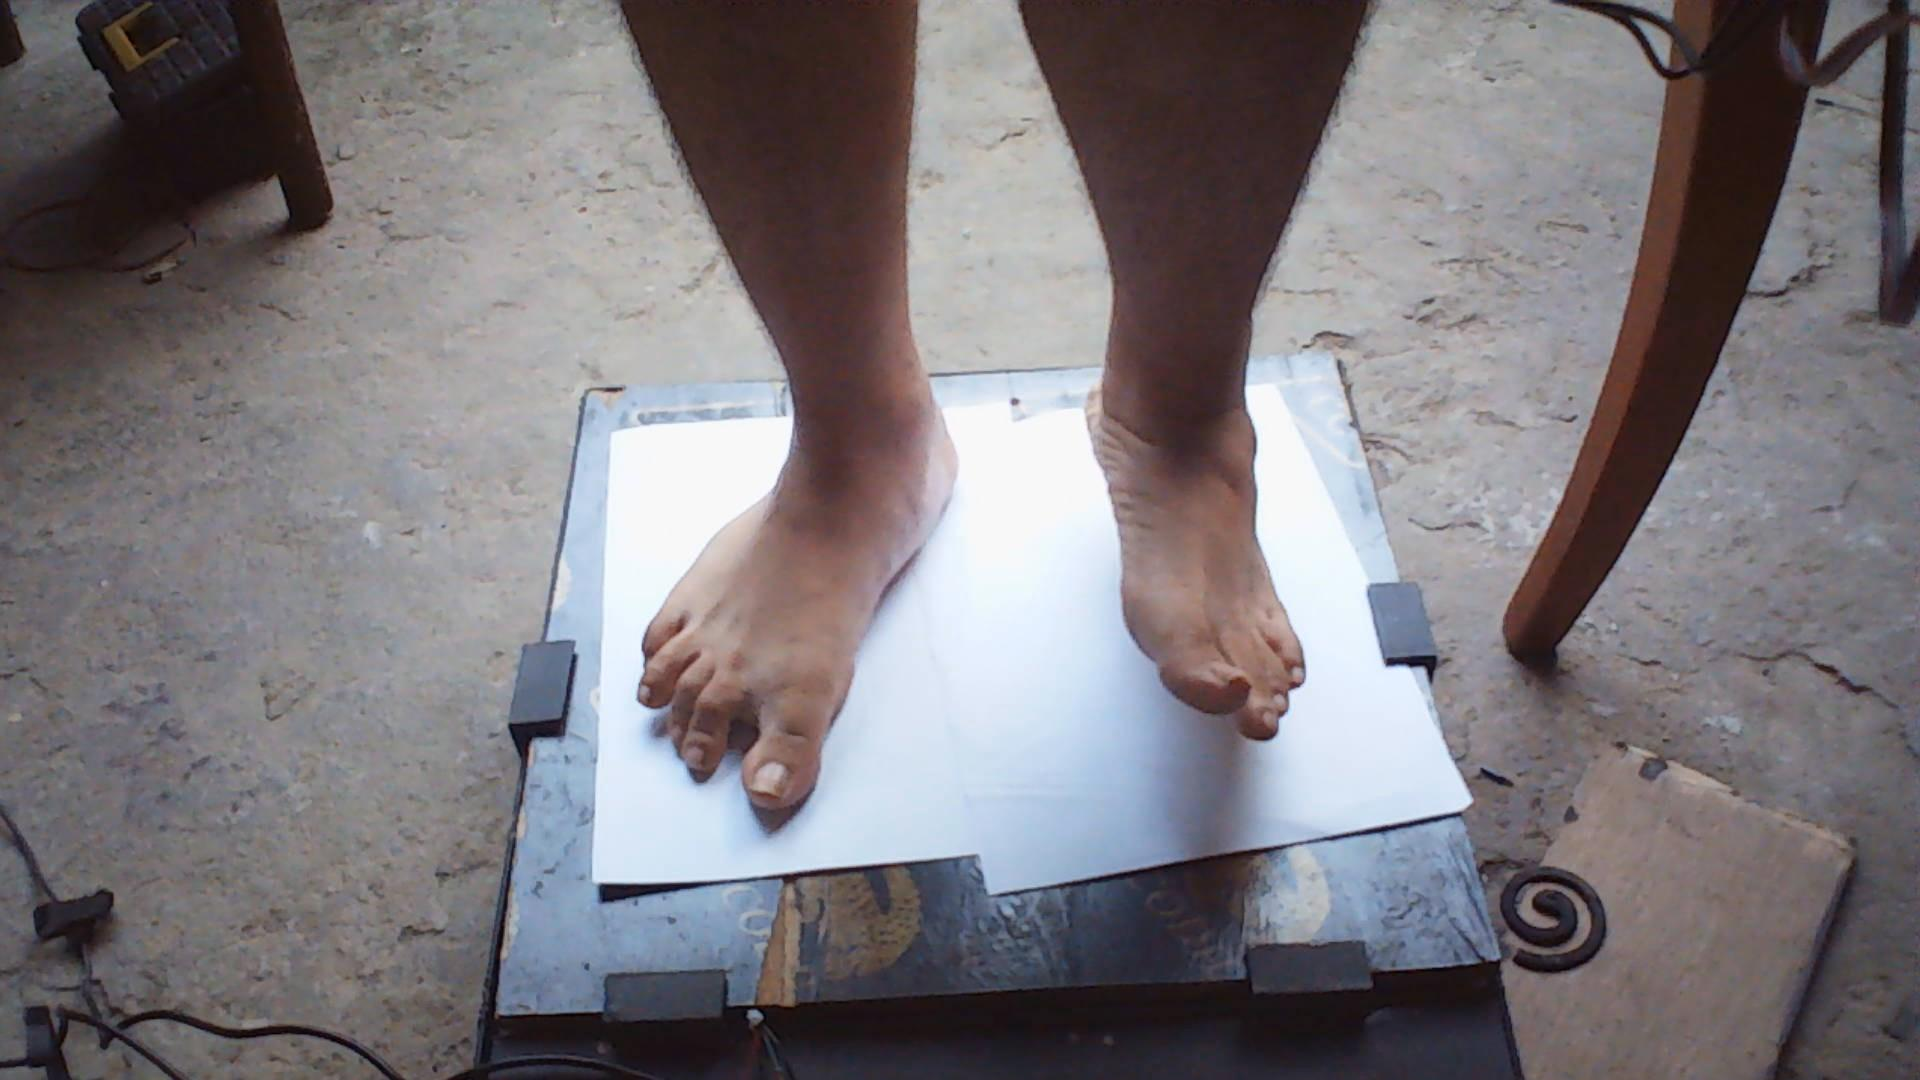Bare_feet: (638, 438, 982, 808), (1058, 376, 1313, 771)
